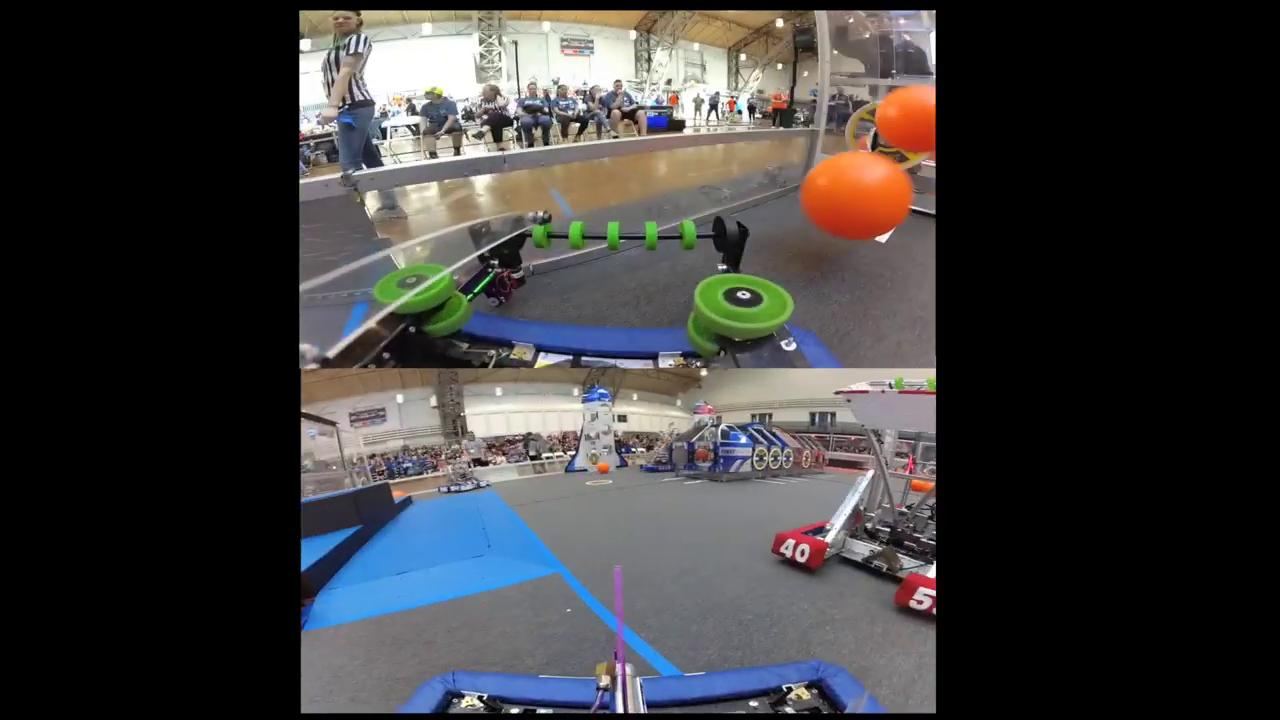robot: (771, 377, 937, 620), (439, 457, 491, 494), (640, 422, 676, 473)
